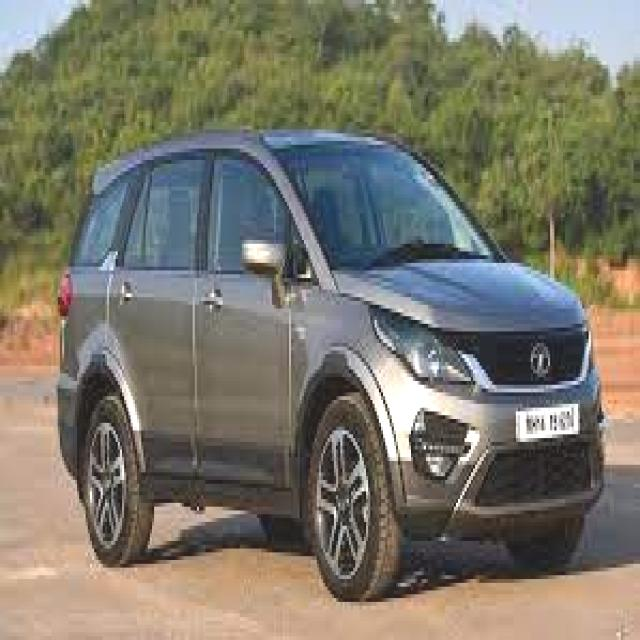SUV: (53, 118, 608, 598)
